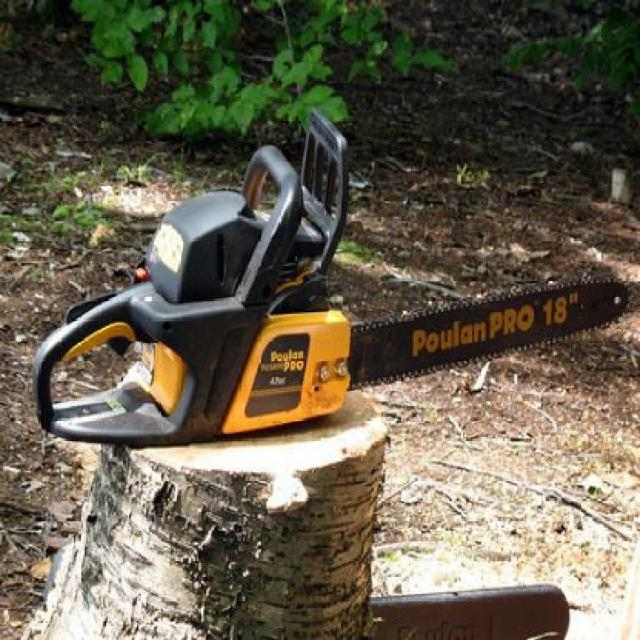Chainsaw: (29, 100, 629, 454)
